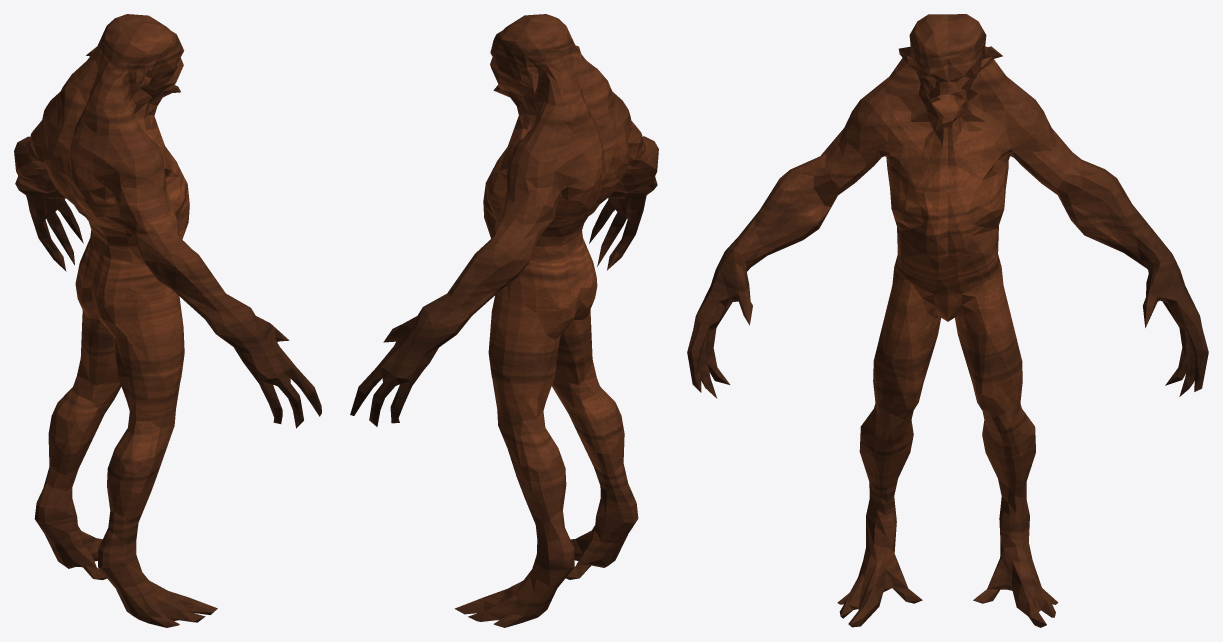
File: gatekeeperModel.fbx
The picture shows the model from 3 angles, left to right: view 1: azimuth 30°, elevation 25°; view 2: azimuth 150°, elevation 25°; view 3: azimuth 270°, elevation 25°; orthographic projection. The views are drawn at different scales.
Parts seen in each view (by area): view 1: Group35656; view 2: Group35656; view 3: Group35656.
Boxes of the visible parts, box(x1,y1,x2,y2) form: Group35656: box(14, 14, 321, 627); Group35656: box(350, 14, 658, 627); Group35656: box(687, 14, 1208, 627).
Size of the model in its own units: 0.00075 by 0.00289 by 0.00229.
